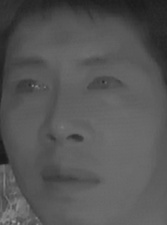eye: (85, 74, 125, 97), (11, 76, 50, 99)
mouth: (37, 157, 104, 200)
